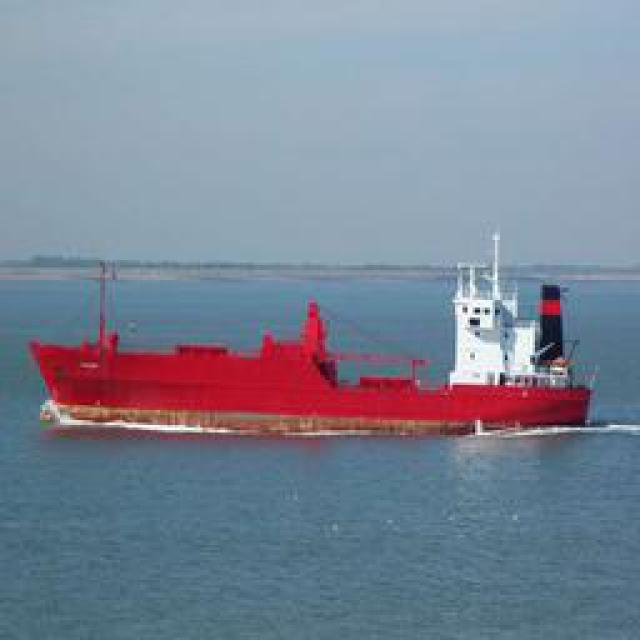Ship: (31, 256, 614, 441)
